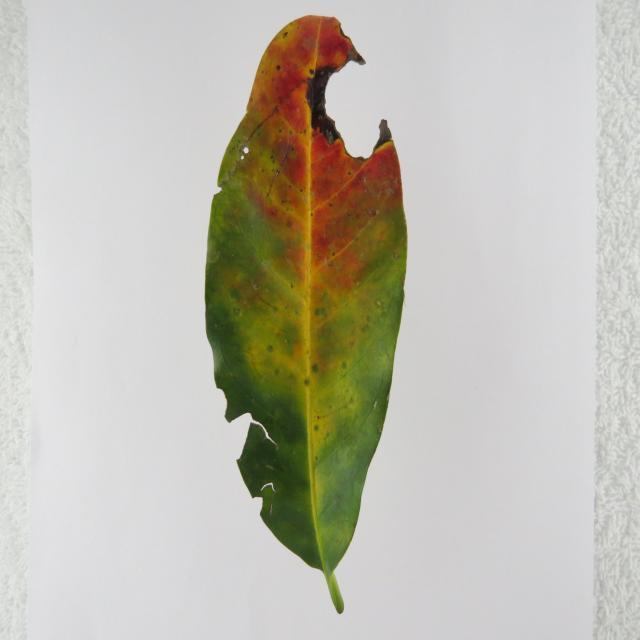DeficienciaNutricional-Fosforo: (205, 15, 408, 612)
